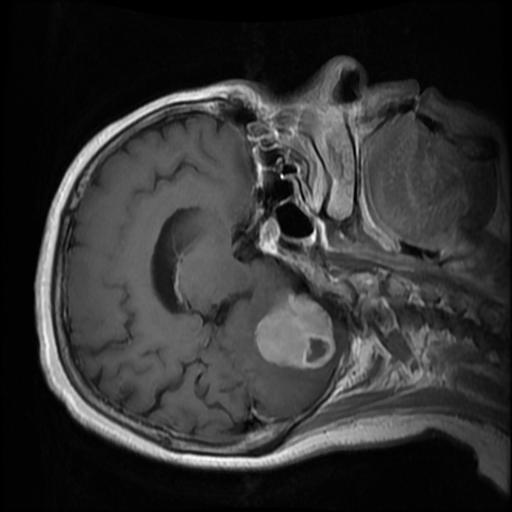meningioma: (253, 294, 335, 369)
